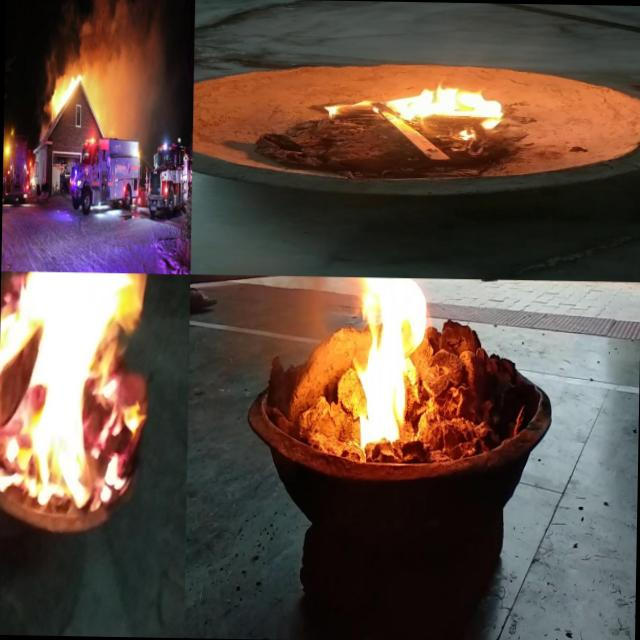fire: (0, 271, 170, 512), (319, 62, 536, 140), (352, 276, 429, 462), (49, 67, 78, 121)
smoke: (191, 274, 355, 391), (78, 0, 153, 84), (50, 0, 79, 69), (34, 46, 50, 140)
